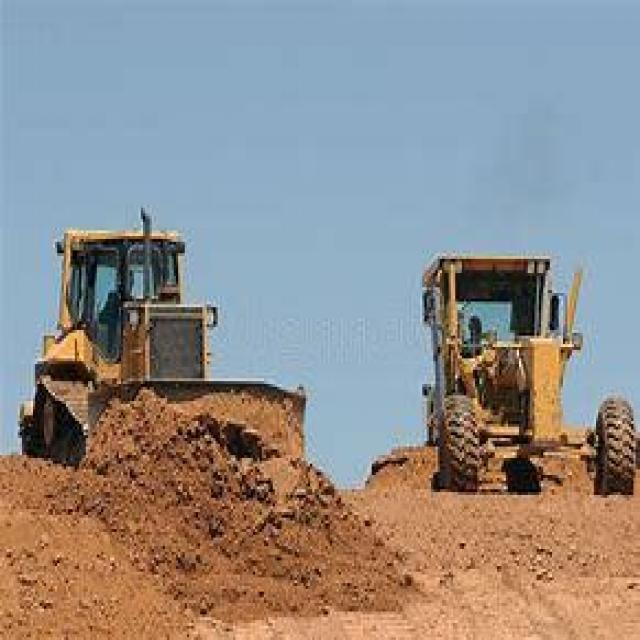Bulldozer: (13, 202, 319, 520)
Grader: (418, 252, 638, 502)
